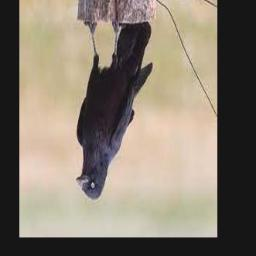Crow: (75, 22, 152, 200)
